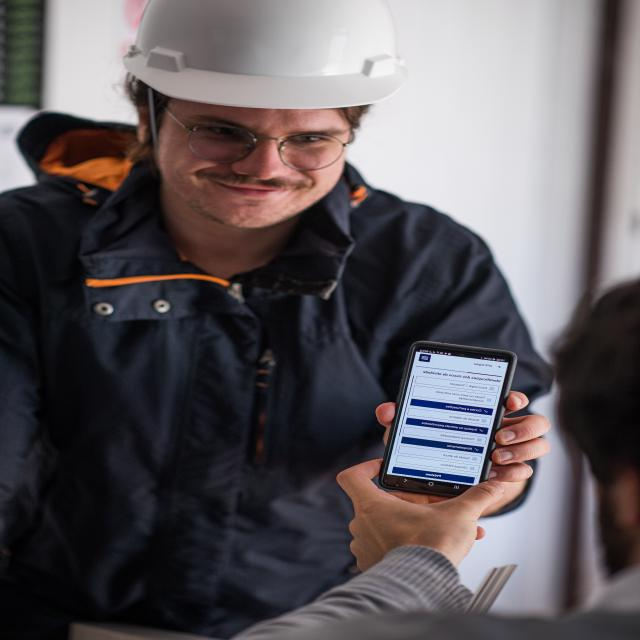capacete: (115, 0, 416, 115)
